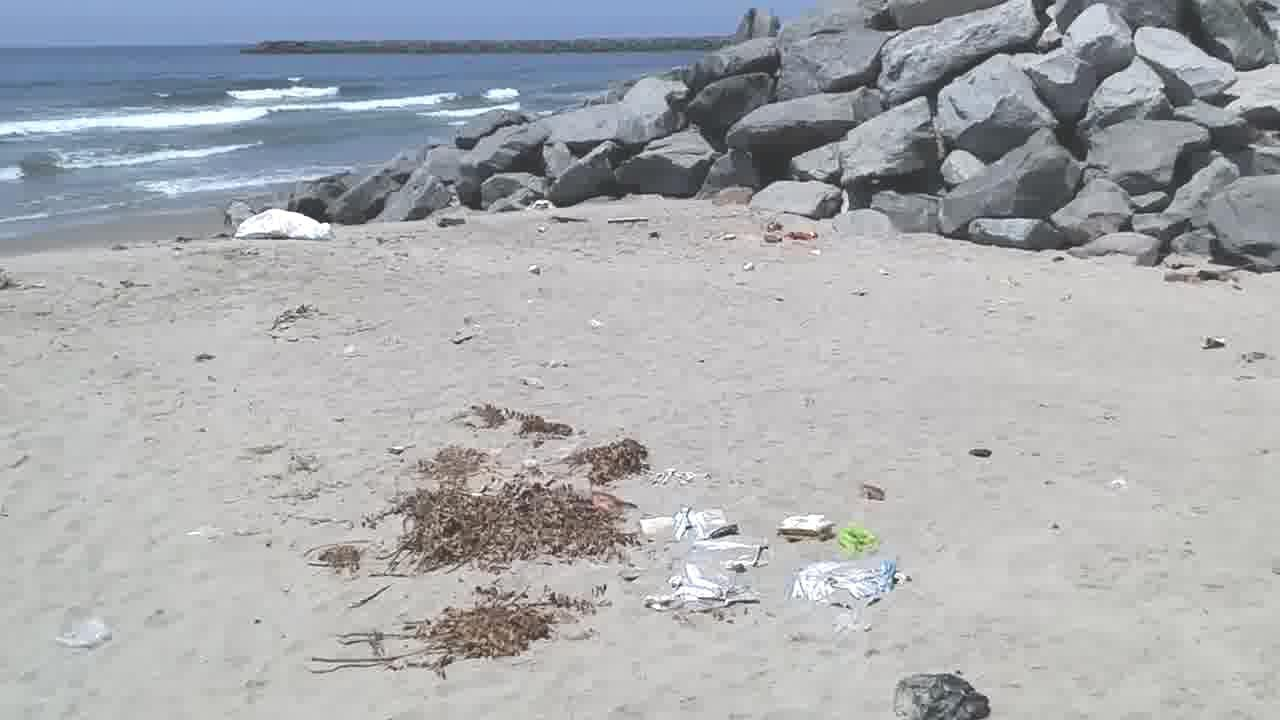obj: (410, 479, 632, 570), (421, 579, 581, 679), (787, 562, 911, 608), (888, 670, 997, 719), (646, 564, 752, 614), (482, 405, 578, 437), (584, 442, 644, 489), (424, 441, 488, 479), (778, 512, 835, 545), (50, 618, 112, 646)
sand/background: (2, 0, 1279, 303)
